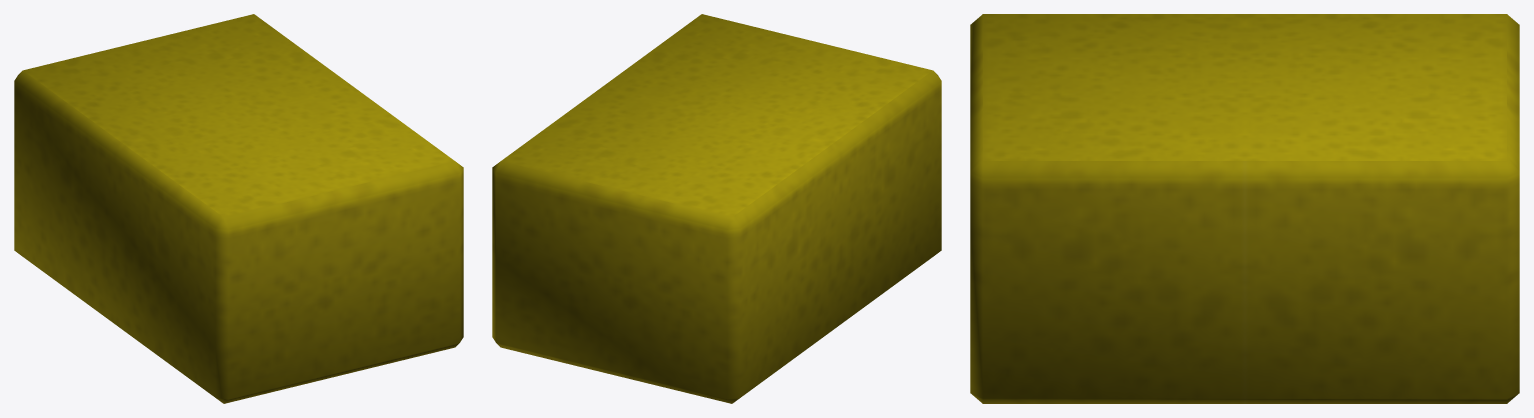
The model's file is CeSuo_01_haimian_01.FBX.
The picture shows the model from 3 angles, left to right: view 1: azimuth 30°, elevation 25°; view 2: azimuth 150°, elevation 25°; view 3: azimuth 270°, elevation 25°; orthographic projection. The views are drawn at different scales.
Visible parts, largest first — view 1: CeSuo_01_haimian_01; view 2: CeSuo_01_haimian_01; view 3: CeSuo_01_haimian_01.
Part boxes in pixels (x1,y1,x2,y2): CeSuo_01_haimian_01: [14, 14, 463, 403]; CeSuo_01_haimian_01: [492, 14, 941, 403]; CeSuo_01_haimian_01: [970, 14, 1519, 403].
Bounding box in the file's own units: 45.42 × 32.6 × 66.79.
